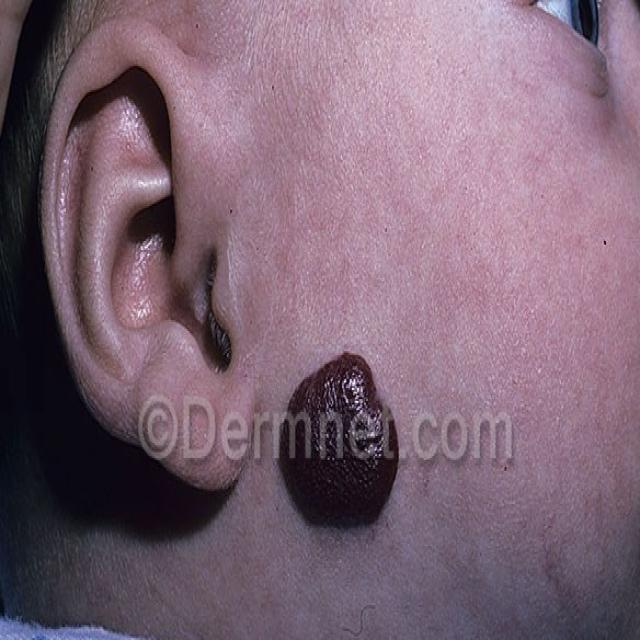Vascular Tumors: (271, 340, 412, 545)
